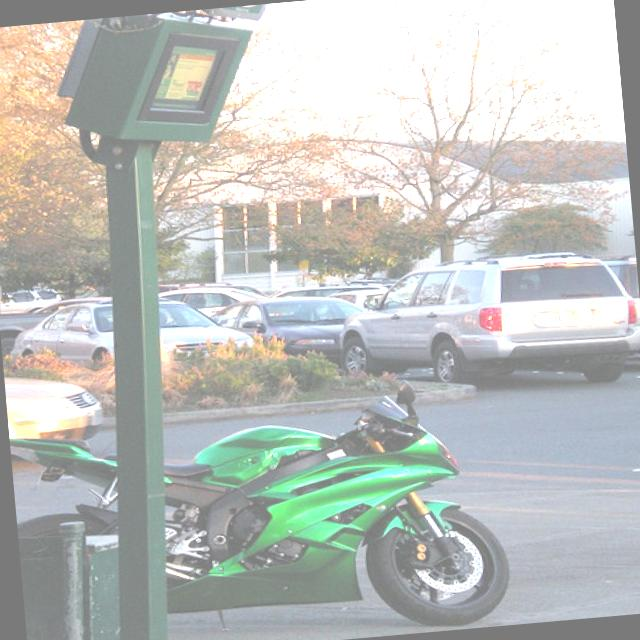Vehicle: (7, 372, 516, 640), (323, 245, 640, 408), (10, 286, 256, 371), (210, 289, 370, 365), (2, 357, 104, 471), (159, 283, 267, 320), (605, 250, 640, 364), (271, 278, 385, 301), (0, 287, 62, 316), (331, 288, 387, 310)
